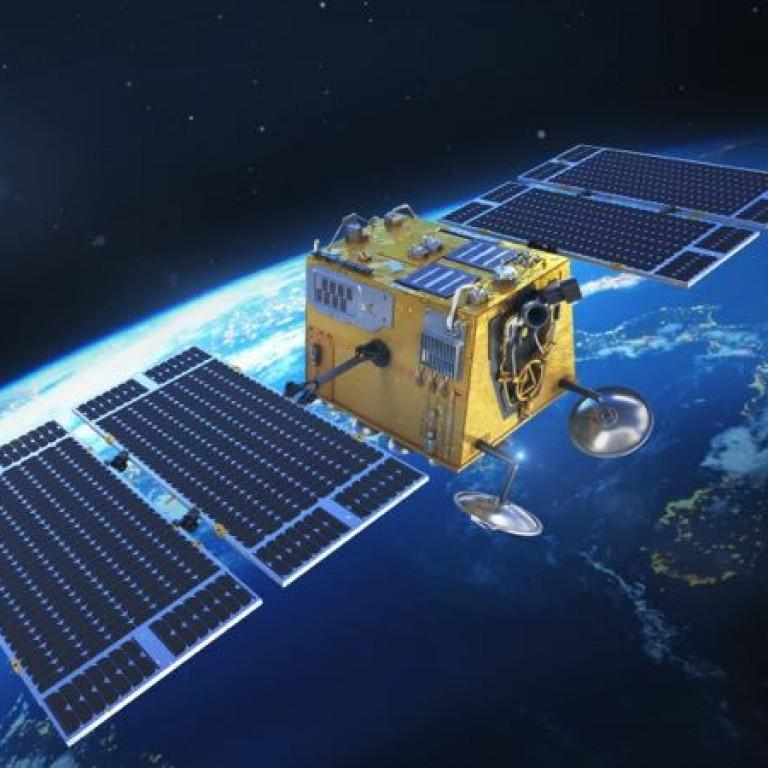antenna: (568, 383, 656, 462), (450, 488, 548, 541)
body: (304, 203, 580, 473)
solar: (0, 418, 266, 751), (71, 343, 429, 584), (435, 176, 759, 292), (521, 141, 768, 226), (397, 260, 480, 298), (448, 239, 522, 272)
thruster: (540, 277, 586, 305), (518, 299, 551, 330)
